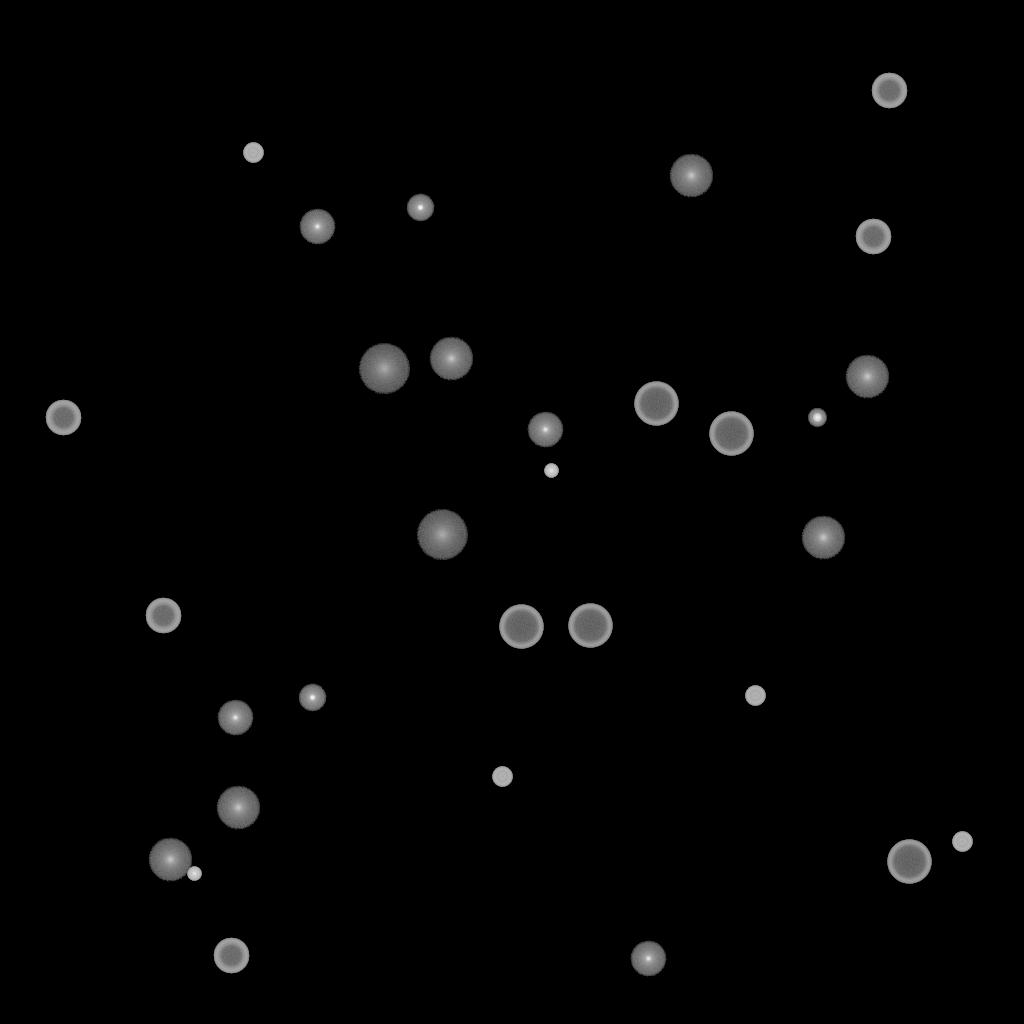depth:-10: (406, 194, 434, 222), (298, 684, 326, 712)
depth:-20: (808, 409, 826, 427)
depth:-30: (544, 464, 558, 478), (187, 867, 201, 881)
depth:-40: (952, 832, 972, 852), (745, 686, 765, 706), (243, 143, 263, 163), (492, 767, 512, 787)
depth:-60: (145, 598, 181, 634), (855, 219, 891, 255), (871, 73, 907, 109), (45, 400, 81, 436), (213, 938, 249, 974)
depth:-70: (568, 604, 612, 648), (887, 840, 931, 884), (499, 605, 543, 649), (634, 382, 678, 426), (709, 412, 753, 456)
depth:0: (630, 941, 666, 977), (217, 700, 253, 736), (527, 412, 563, 448), (299, 209, 335, 245)
depth:10: (216, 786, 260, 830), (845, 355, 889, 399), (801, 516, 845, 560), (429, 337, 473, 381), (669, 154, 713, 198), (148, 838, 192, 882)
depth:20: (416, 510, 468, 560), (358, 344, 410, 394)
